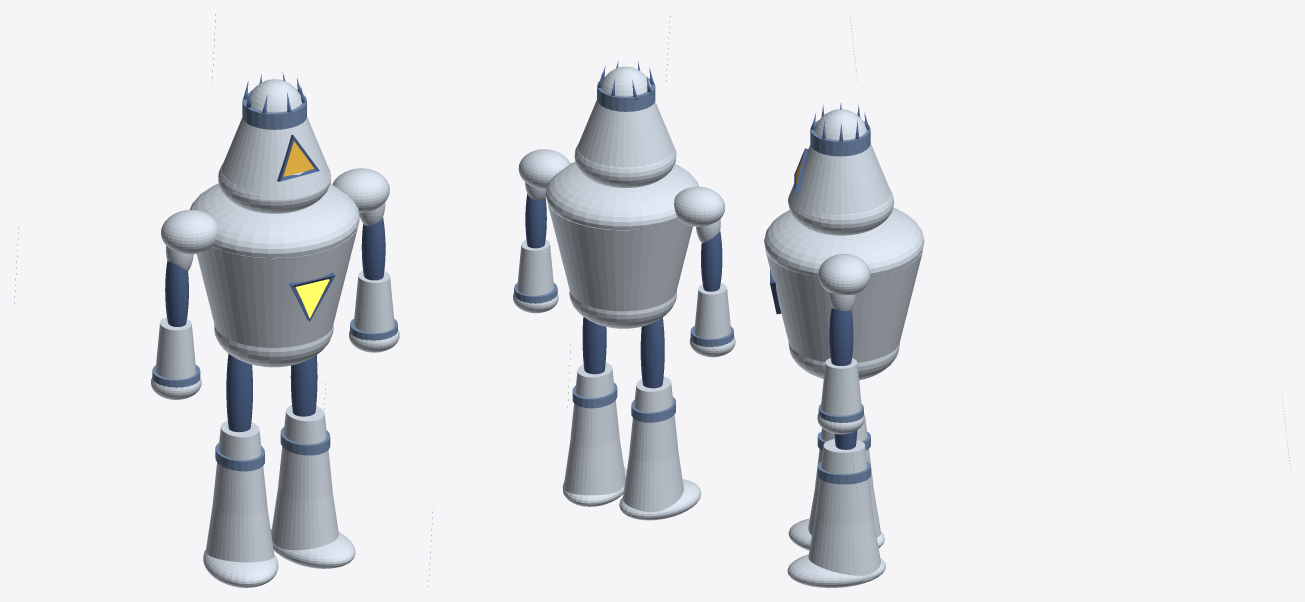
The model's file is king.glb.
3 views of the same model, side by side, from view 1: azimuth 30°, elevation 25°; view 2: azimuth 150°, elevation 25°; view 3: azimuth 270°, elevation 25° (orthographic). The views are drawn at different scales.
Parts seen in each view (by area): view 1: koenig_torso, koenig_hip.001, koenig_head, koenig_leg_upper_left, koenig_leg_upper_left.001, koenig_leg_lower_left.001, koenig_leg_lower_left, koenig_arm_upper_right, koenig_arm_upper_right.003, koenig_fist_left, koenig_hip, koenig_arm_lower_left.001 (+15 smaller); view 2: koenig_torso, koenig_hip.001, koenig_head, koenig_leg_upper_left, koenig_leg_upper_left.001, koenig_leg_lower_left.001, koenig_leg_lower_left, koenig_hip.002, koenig_arm_upper_right, koenig_arm_upper_right.003, koenig_fist_left, koenig_hip (+14 smaller); view 3: koenig_torso, koenig_head, koenig_hip.001, koenig_leg_upper_left.001, koenig_leg_lower_left.001, koenig_arm_upper_right, koenig_hip.002, koenig_fist_left.001, koenig_fist_right.002, koenig_arm_lower_left.004, koenig_hip, koenig_absatz_left.002.
Boxes of the visible parts, x1,y1,x2,y2 form: koenig_torso: (196, 226, 358, 347); koenig_hip.001: (189, 183, 359, 257); koenig_head: (219, 79, 330, 200); koenig_leg_upper_left: (213, 420, 267, 515); koenig_leg_upper_left.001: (278, 405, 332, 499); koenig_leg_lower_left.001: (271, 487, 338, 552); koenig_leg_lower_left: (205, 502, 274, 562); koenig_arm_upper_right: (354, 270, 394, 333); koenig_arm_upper_right.003: (155, 317, 196, 379); koenig_fist_left: (161, 210, 217, 254); koenig_hip: (214, 324, 333, 367); koenig_arm_lower_left.001: (226, 353, 252, 432); koenig_torso: (547, 201, 692, 311); koenig_hip.001: (546, 161, 698, 229); koenig_head: (577, 66, 676, 175); koenig_leg_upper_left: (629, 376, 677, 462); koenig_leg_upper_left.001: (570, 362, 619, 447); koenig_leg_lower_left.001: (563, 436, 625, 495); koenig_leg_lower_left: (622, 450, 683, 512); koenig_hip.002: (574, 144, 676, 187); koenig_arm_upper_right: (517, 239, 553, 295); koenig_arm_upper_right.003: (694, 283, 730, 338); koenig_fist_left: (674, 186, 724, 226); koenig_hip: (569, 290, 676, 328); koenig_torso: (764, 244, 923, 362); koenig_head: (788, 109, 890, 222); koenig_hip.001: (764, 207, 924, 276); koenig_leg_upper_left.001: (815, 439, 873, 525); koenig_leg_lower_left.001: (808, 517, 880, 581); koenig_arm_upper_right: (820, 358, 861, 415); koenig_hip.002: (788, 189, 893, 235); koenig_fist_left.001: (818, 253, 870, 294); koenig_fist_right.002: (787, 554, 885, 587); koenig_arm_lower_left.004: (829, 308, 853, 365); koenig_hip: (788, 343, 899, 380); koenig_absatz_left.002: (810, 120, 870, 156).
Bounding box in the file's own units: 0.8798 × 1.96 × 1.77.
